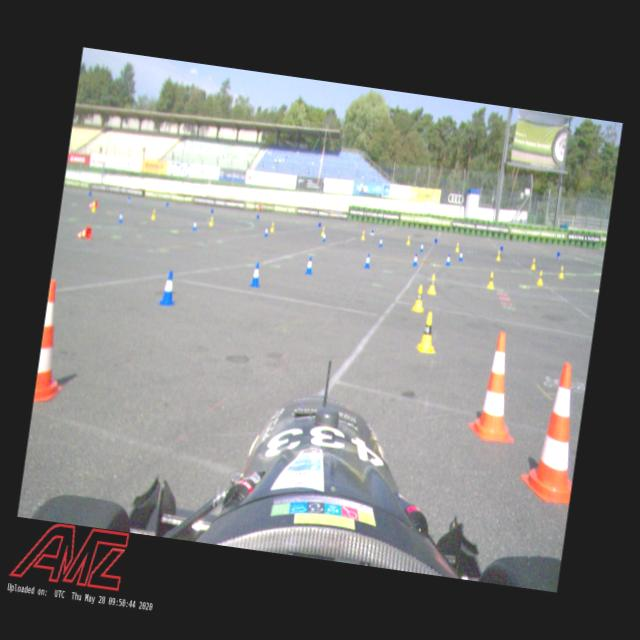blue_cone: (158, 269, 180, 307), (248, 261, 263, 288), (304, 254, 315, 275), (363, 252, 372, 270), (445, 253, 452, 267), (412, 253, 419, 267), (118, 211, 124, 224), (458, 250, 464, 262), (378, 236, 384, 248), (264, 225, 270, 237), (192, 220, 198, 231), (419, 242, 425, 252), (556, 250, 562, 258), (322, 232, 326, 242), (499, 245, 504, 252), (434, 238, 438, 245), (318, 222, 322, 228)
large_orange_cone: (518, 358, 588, 505), (466, 329, 529, 446), (34, 281, 77, 403)
orange_cone: (75, 224, 94, 242), (88, 199, 99, 209)
yellow_cone: (414, 310, 442, 354), (412, 284, 428, 313), (426, 272, 438, 296), (487, 271, 498, 291), (536, 271, 546, 287), (558, 264, 566, 280), (530, 256, 538, 270), (406, 234, 412, 246), (496, 250, 502, 261), (91, 202, 97, 213), (150, 210, 156, 220), (360, 230, 366, 240), (270, 222, 276, 232), (209, 216, 214, 227), (321, 227, 326, 237), (456, 242, 460, 252)
